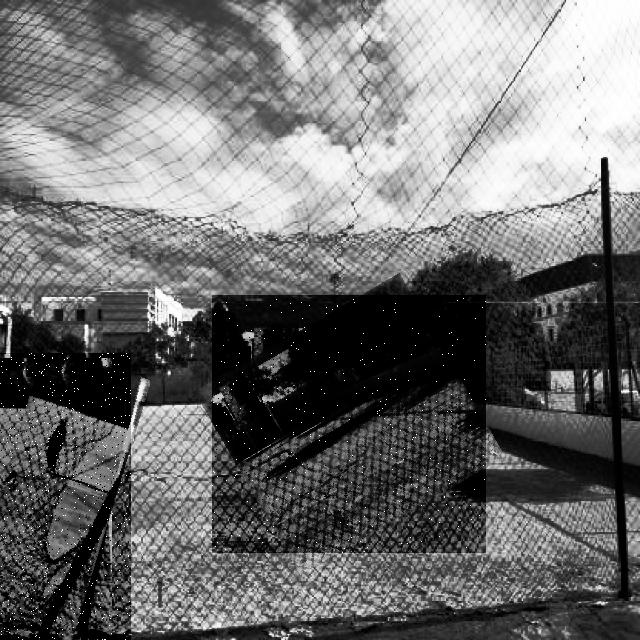anomaly-fence: (213, 295, 487, 553), (0, 353, 131, 640)
